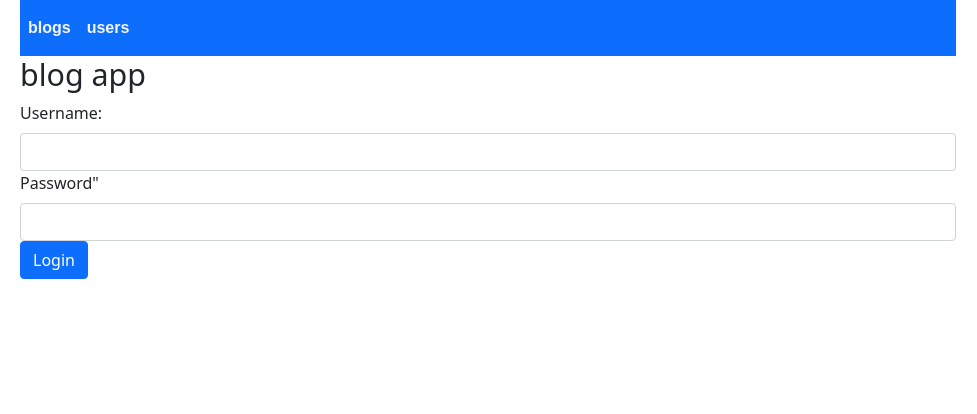
Test: Blog app › Login › fails with wrong credentials, STEP2
In the field with id "username": {"x": 488, "y": 152} [20,133,956,171], type "user"
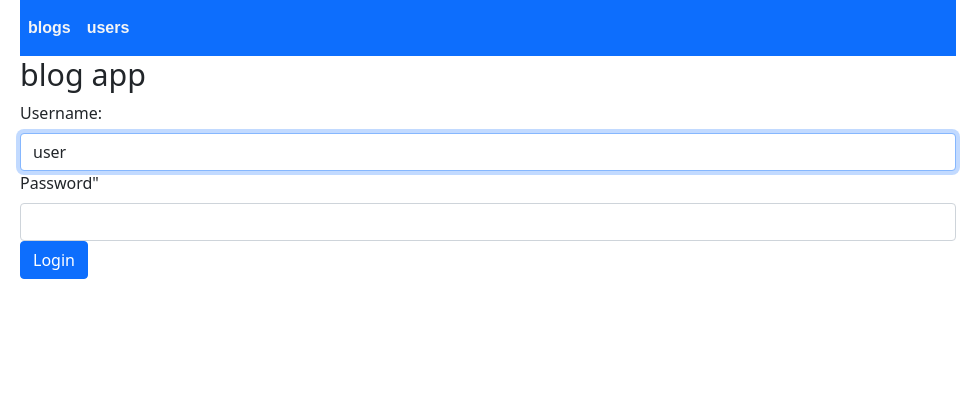
In the password field: {"x": 488, "y": 222} [20,203,956,241], type "wrongPassword"
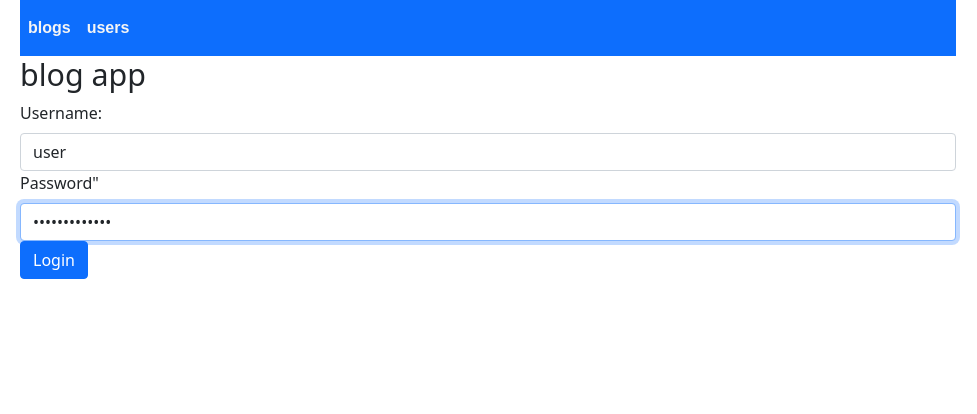
Click the button with id "login-btn": {"x": 54, "y": 260} [20,241,88,279]
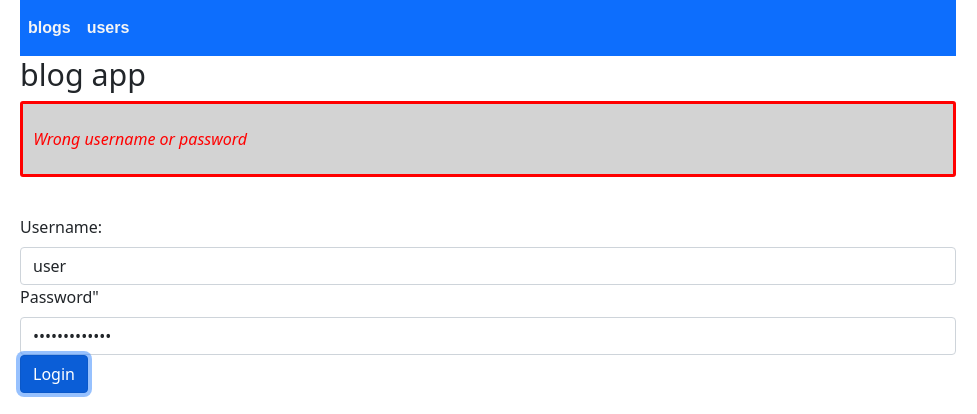
Check: the text with class "errorMsg" reads "Wrong username or password", box [33,128,247,150]
